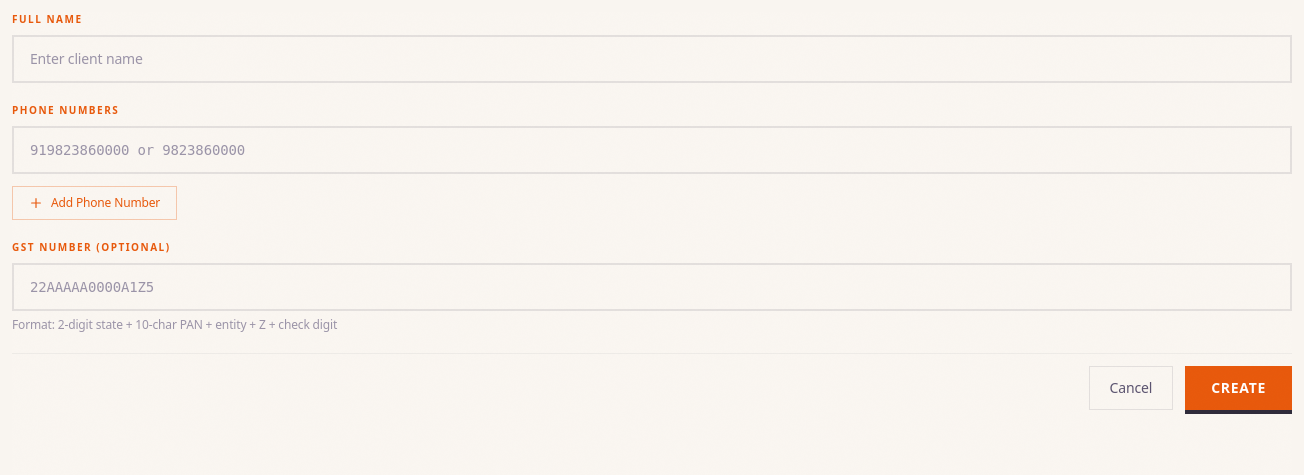
Test: ClientForm › Unit Tests - Form Validation › should clear errors when user starts typing
# Submit to trigger errors
Click the button "Create".
click(1239, 388)  # box [1185,366,1292,410]
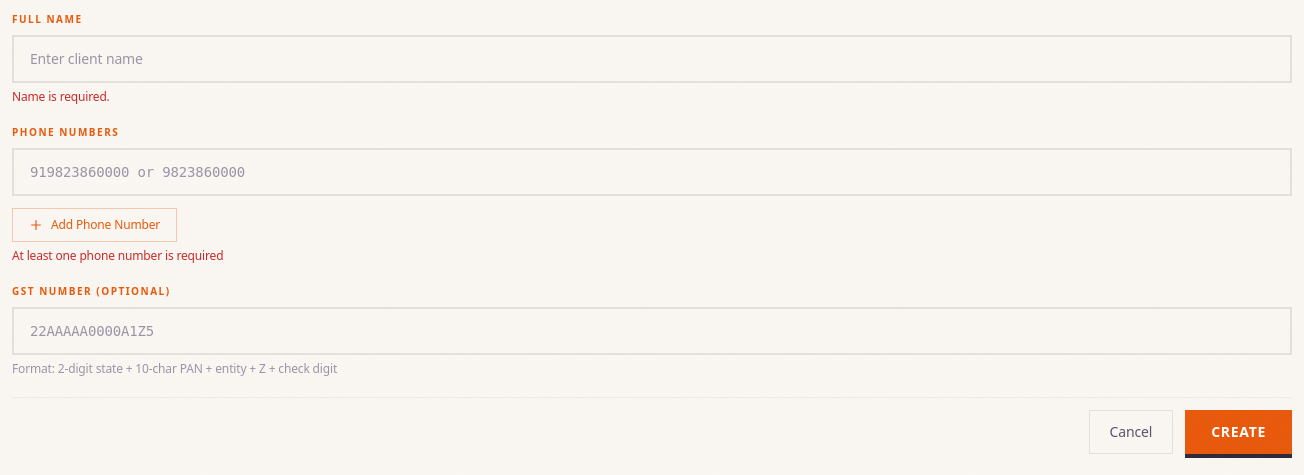
Expected: the text "Name is required." is shown, [12,88,110,105]
# Start typing in name field
Type "T" into the field labelled "Full Name".
click(652, 59); type("T")  # box [12,35,1292,83]
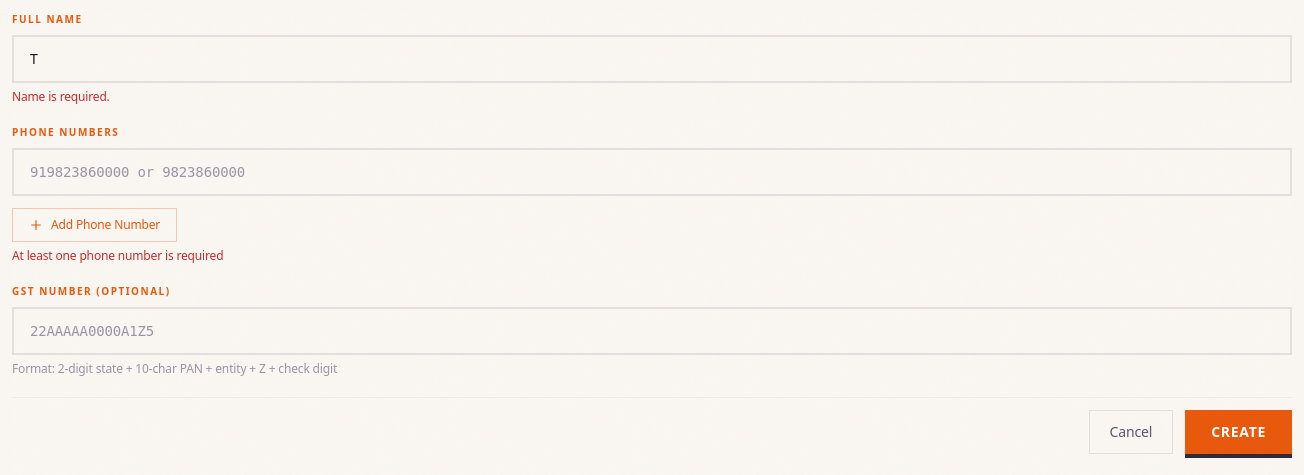
# Submit again to re-validate
Click the button "Create".
click(1239, 432)  # box [1185,410,1292,454]
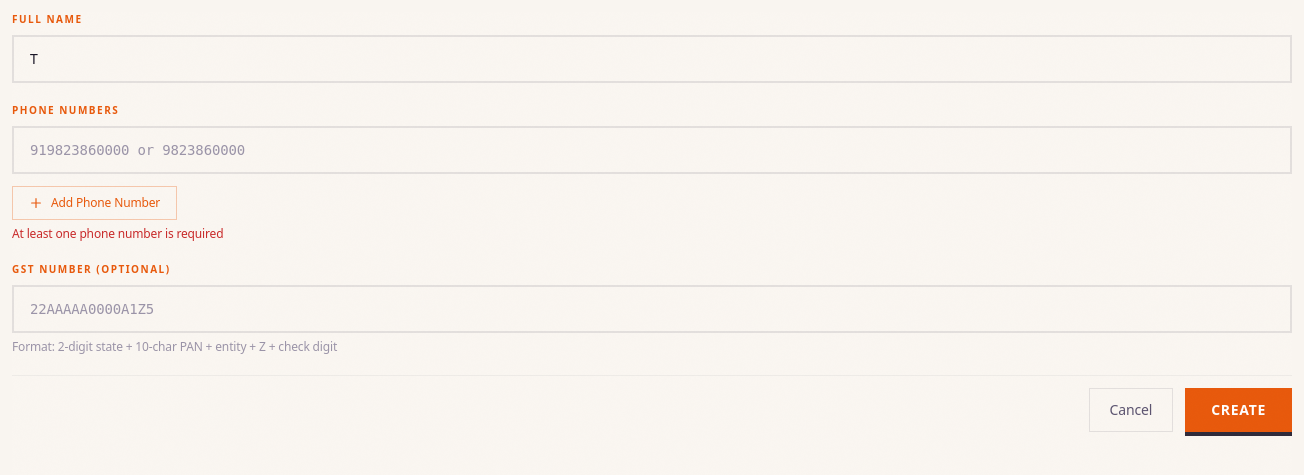
Expected: the text "At least one phone number is required" is shown, [12,225,223,242]
Expected: the text "Name is required." is gone
